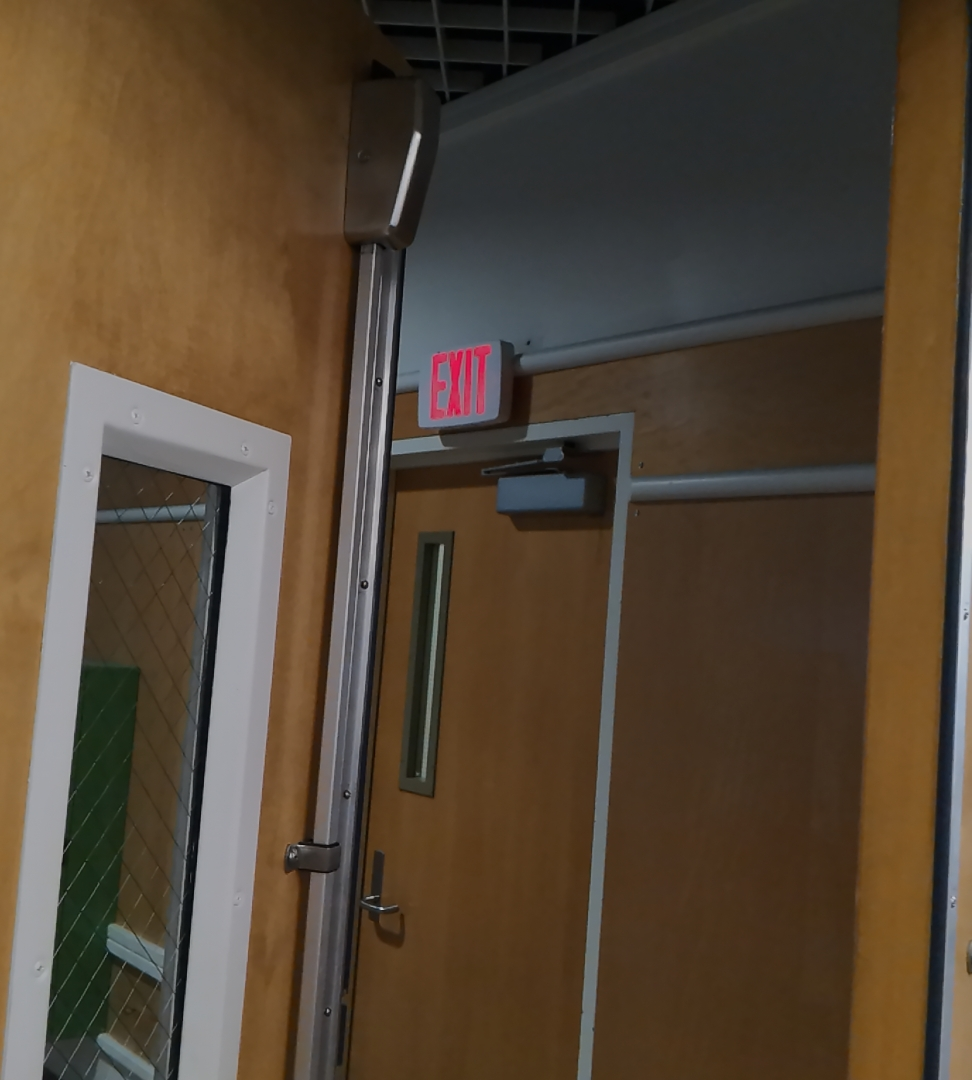emergency_exit: (417, 338, 509, 431)
